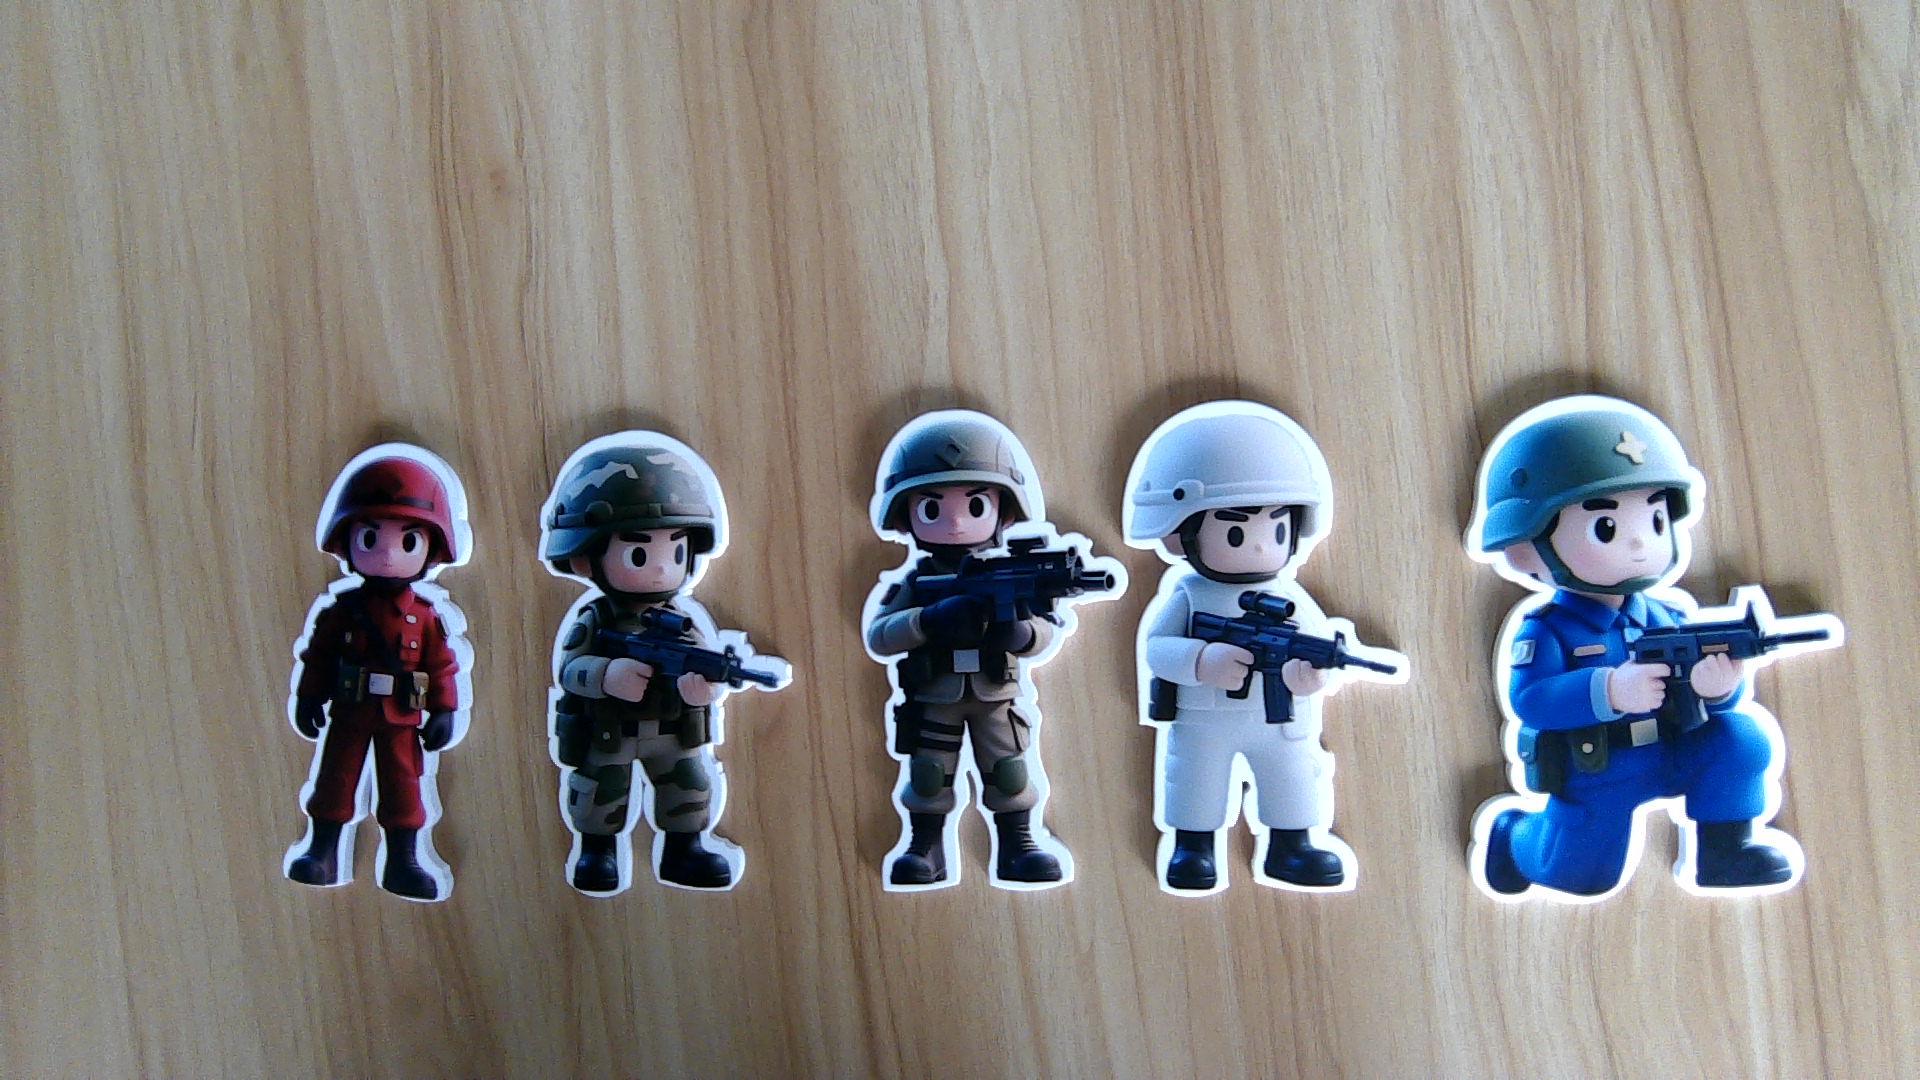人质: (1127, 579, 1403, 906)
友军: (857, 555, 1106, 894), (539, 600, 789, 899)
敌人1: (278, 579, 476, 899)
敌人2: (1462, 591, 1841, 915)
